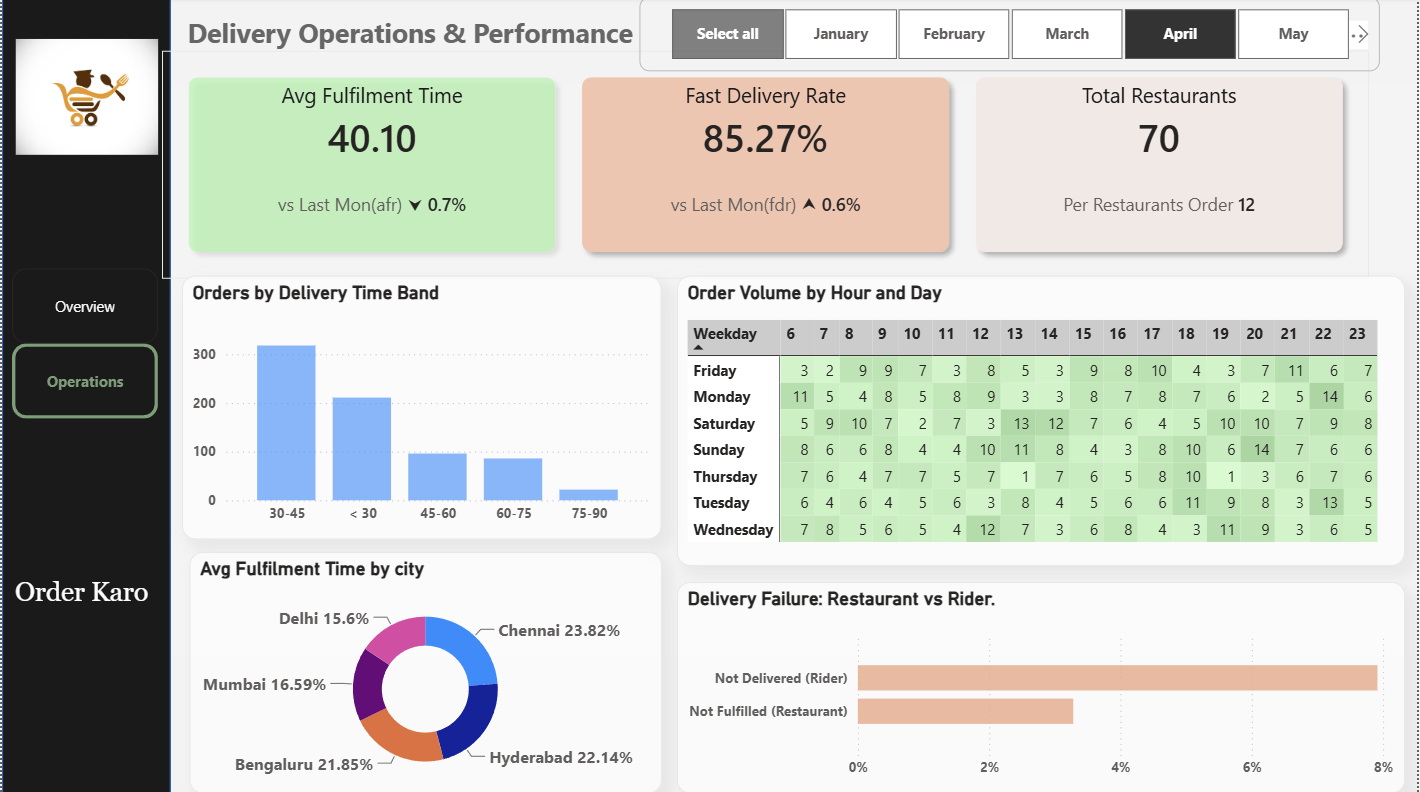

The dashboard page shown, as its layout file describes it:
{"tool":"powerbi","page":{"name":"Operations","canvas":[1280,720],"ordinal":1},"visuals":[{"type":"shape","box":[0,0,152.6,720.2],"z":0,"group":"g1"},{"type":"group","id":"g1","title":"Group 1","box":[0,0,152.6,720.2],"z":0},{"type":"image","box":[12.4,20.4,128.9,140.2],"z":1000},{"type":"cardVisual","fields":{"Data":["fooddelivery deliveries.Avg Fulfilment Time","fooddelivery deliveries.Fast Delivery Rate","fooddelivery restaurants.Total Restaurants"]},"box":[144.6,48.2,1092.6,206.2],"z":2000},{"type":"columnChart","title":"Orders by Delivery Time Band","fields":{"Category":["fooddelivery deliveries.Time Band"],"Y":["fooddelivery deliveries.Delivered Count"]},"box":[163.3,251.7,433.8,238.3],"z":3000},{"type":"donutChart","fields":{"Category":["fooddelivery restaurants.city"],"Y":["fooddelivery deliveries.Avg Fulfilment Time"]},"box":[169.6,502,427.4,218.2],"z":4000},{"type":"textbox","box":[6.7,519.5,137.9,48.2],"z":5000},{"type":"pivotTable","title":"Order Volume by Hour and Day","fields":{"Columns":["fooddelivery orders.Order Hour"],"Rows":["fooddelivery orders.DayOfWeekNumber"],"Values":["fooddelivery orders.countorderid"]},"box":[610.6,252.1,658,262.3],"z":7000},{"type":"textbox","box":[162.7,11.6,424.9,54.2],"z":7001},{"type":"slicer","fields":{"Values":["DateTable.Date.Variation.Date Hierarchy.Month"]},"box":[577.1,0,669.5,66.9],"z":7002},{"type":"barChart","title":"Delivery Failure: Restaurant vs Rider.","fields":{"Category":["Failure Stages.Stage"],"Y":["Failure Stages.Failure Rate by Stage"]},"box":[610.6,529.1,658,191.1],"z":7003},{"type":"pageNavigator","box":[9,245.4,132.3,137.9],"z":8000,"group":"g1"}]}

Visuals, with their boxes on the page's 1280x720 design canvas (x1, y1, x2, y2). These are canvas units, not pixel positions in the 1420x792 screenshot, which may show the page scaled, cropped or inside an application window:
shape: [x1=0, y1=0, x2=153, y2=720]
"Group 1" group: [x1=0, y1=0, x2=153, y2=720]
image: [x1=12, y1=20, x2=141, y2=161]
cardVisual - fooddelivery deliveries.Avg Fulfilment Time x fooddelivery deliveries.Fast Delivery Rate: [x1=145, y1=48, x2=1237, y2=254]
"Orders by Delivery Time Band" columnChart: [x1=163, y1=252, x2=597, y2=490]
donutChart - fooddelivery restaurants.city x fooddelivery deliveries.Avg Fulfilment Time: [x1=170, y1=502, x2=597, y2=720]
textbox: [x1=7, y1=520, x2=145, y2=568]
"Order Volume by Hour and Day" pivotTable: [x1=611, y1=252, x2=1269, y2=514]
textbox: [x1=163, y1=12, x2=588, y2=66]
slicer - DateTable.Date.Variation.Date Hierarchy.Month: [x1=577, y1=0, x2=1247, y2=67]
"Delivery Failure: Restaurant vs Rider." barChart: [x1=611, y1=529, x2=1269, y2=720]
pageNavigator: [x1=9, y1=245, x2=141, y2=383]
